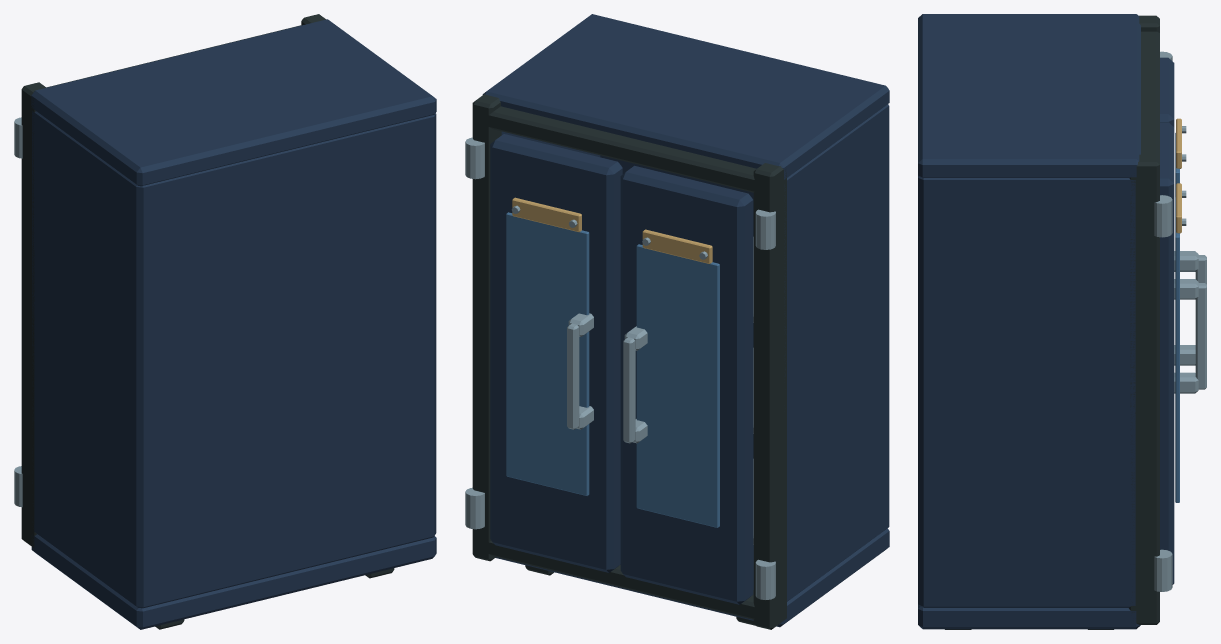
The model's file is bottle_storage_cabinet.glb.
3 views of the same model, side by side, from view 1: azimuth 30°, elevation 25°; view 2: azimuth 150°, elevation 25°; view 3: azimuth 270°, elevation 25° (orthographic).
Parts seen in each view (by area): view 1: body_back_wall, body_side_wall (×2), body_roof, body_floor, front_side_frame; view 2: body_side_wall, body_roof, moving_right_door, moving_left_door, front_side_frame (×2), moving_left_drink_panel, moving_right_drink_panel, front_cross_frame (×2), body_back_wall, hinge_pin (×4), body_floor, moving_left_handle_grip (+3 smaller); view 3: body_side_wall, body_roof, front_side_frame, moving_right_door, body_floor, body_back_wall, front_cross_frame, hinge_pin (×2), moving_right_drink_panel, moving_right_handle_grip, moving_left_door, moving_right_handle_mount (×2) (+1 smaller).
Boxes of the visible parts, x1,y1,x2,y2 form: body_back_wall: [128, 117, 434, 607]; body_side_wall (×2): [32, 111, 436, 608]; body_roof: [31, 19, 436, 186]; body_floor: [31, 534, 436, 629]; front_side_frame: [21, 82, 46, 547]; body_side_wall: [784, 104, 889, 601]; body_roof: [482, 14, 889, 179]; moving_right_door: [490, 134, 622, 572]; moving_left_door: [620, 165, 753, 604]; front_side_frame (×2): [472, 94, 786, 629]; moving_left_drink_panel: [636, 244, 719, 527]; moving_right_drink_panel: [506, 212, 589, 495]; front_cross_frame (×2): [472, 106, 786, 620]; body_back_wall: [600, 105, 889, 532]; hinge_pin (×4): [465, 137, 775, 599]; body_floor: [495, 528, 889, 627]; moving_left_handle_grip: [623, 337, 635, 443]; body_side_wall: [918, 176, 1135, 607]; body_roof: [918, 14, 1140, 178]; front_side_frame: [1129, 154, 1159, 624]; moving_right_door: [1160, 122, 1174, 584]; body_floor: [918, 604, 1140, 629]; body_back_wall: [923, 178, 939, 607]; front_cross_frame: [1130, 31, 1159, 184]; hinge_pin (×2): [1154, 195, 1172, 591]; moving_right_drink_panel: [1175, 197, 1179, 502]; moving_right_handle_grip: [1195, 283, 1206, 389]; moving_left_door: [1160, 57, 1174, 126]; moving_right_handle_mount (×2): [1174, 279, 1198, 393].
Size of the model in its own units: 1.11 by 1.66 by 0.8935.
